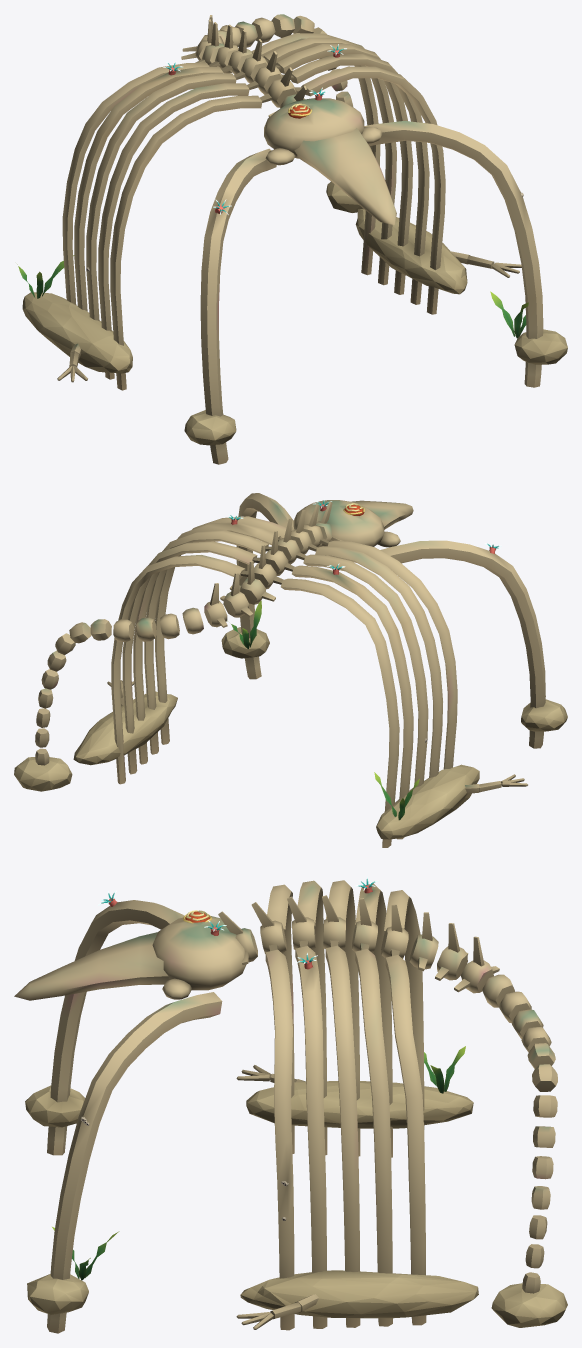
The model's file is whale_bones.glb.
The picture shows the model from 3 angles, top to bottom: view 1: azimuth 30°, elevation 25°; view 2: azimuth 150°, elevation 25°; view 3: azimuth 270°, elevation 25°; orthographic projection. The views are drawn at different scales.
Parts seen in each view (by area): view 1: whale_bones; view 2: whale_bones; view 3: whale_bones.
Boxes of the visible parts, bbox=[...] form: whale_bones: bbox=[17, 14, 567, 464]; whale_bones: bbox=[14, 493, 567, 847]; whale_bones: bbox=[14, 876, 567, 1333].
Size of the model in its own units: 21.55 by 13.23 by 19.17.
